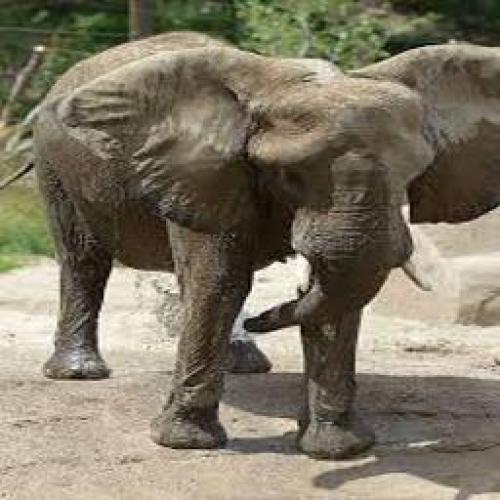african_elephant-endangered: (37, 29, 500, 452)
